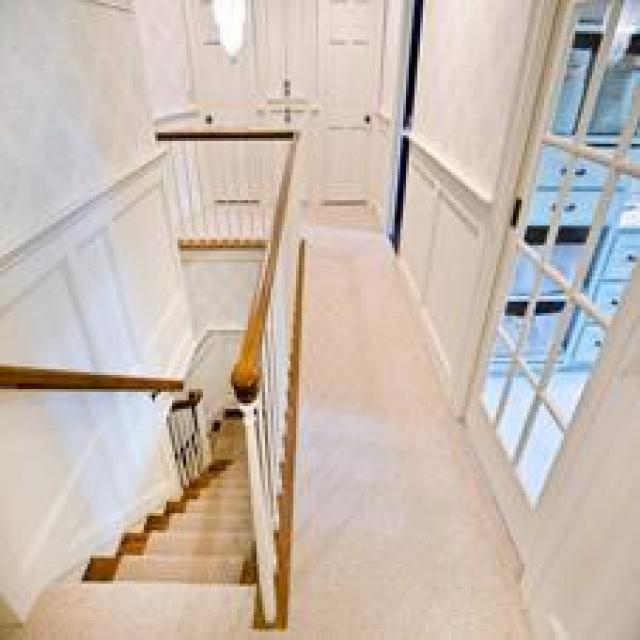downstair: (74, 438, 269, 599)
